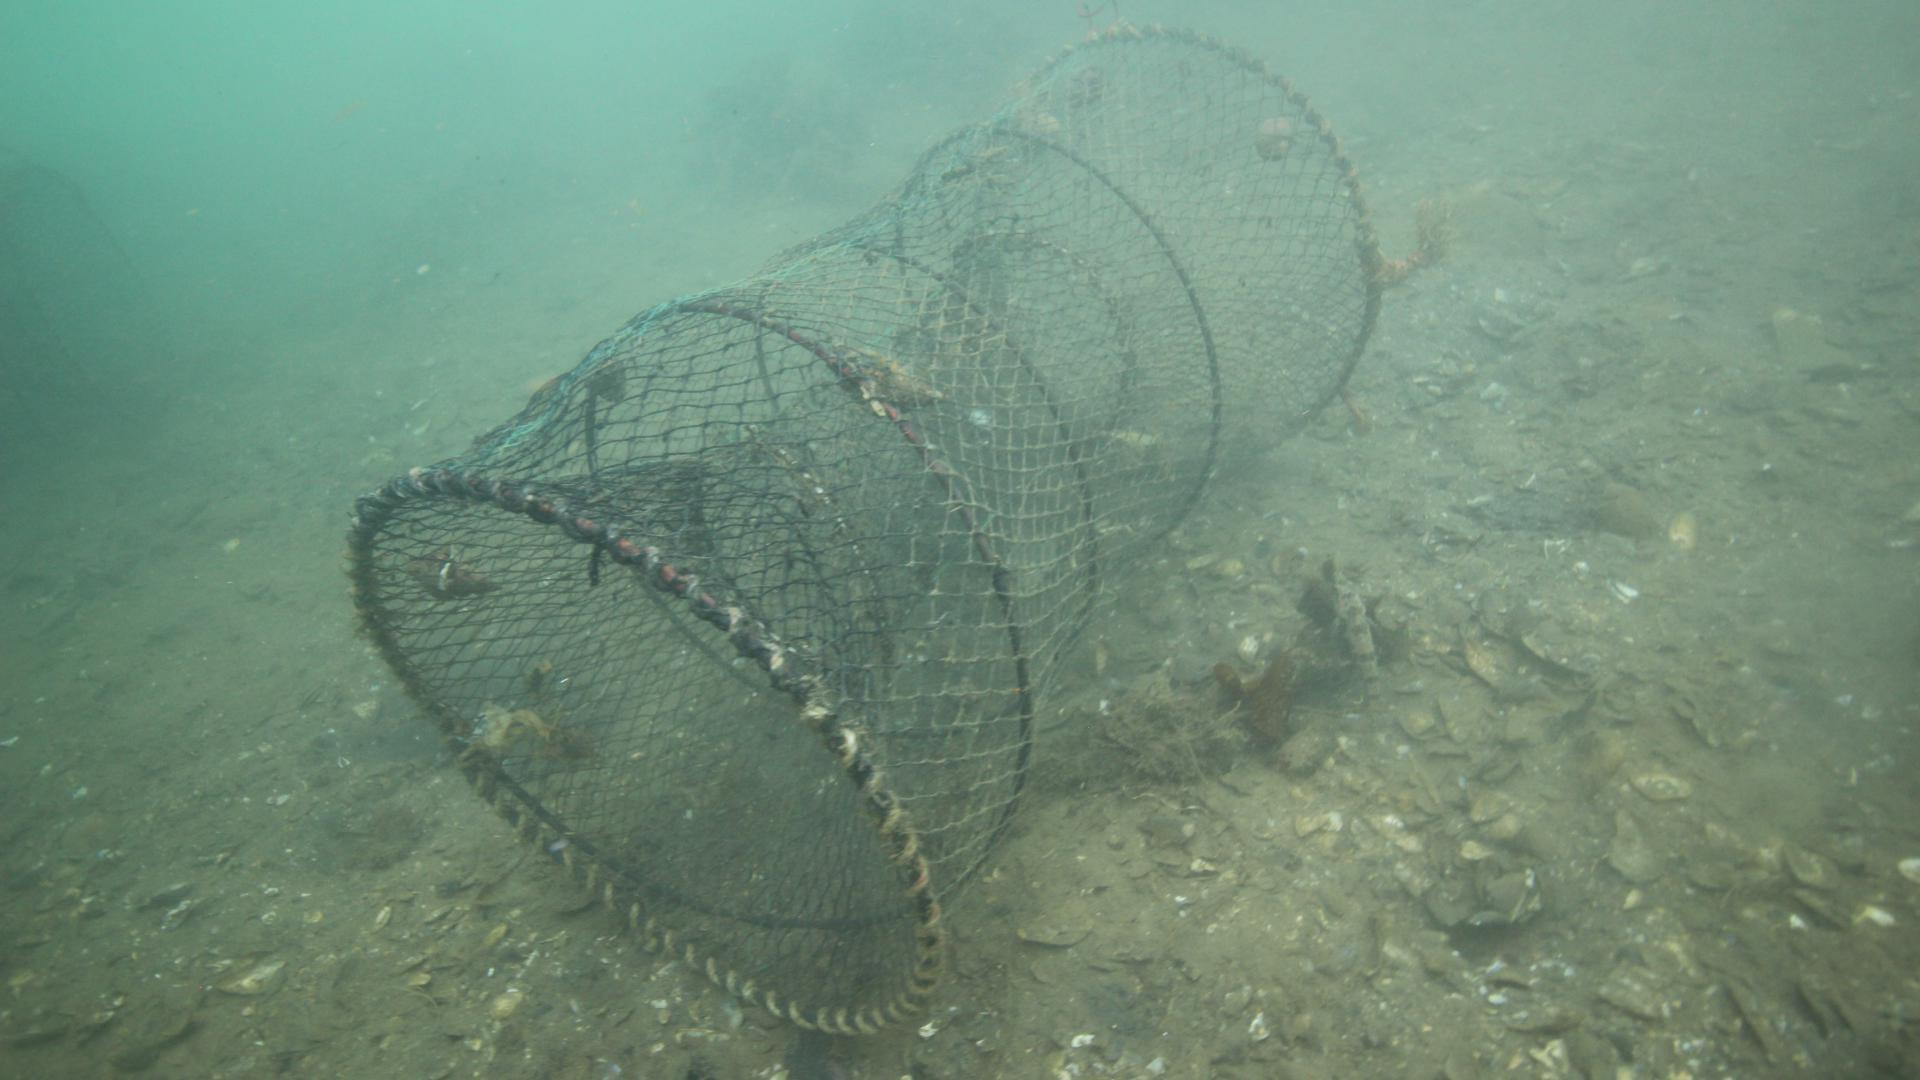spring fish trap: (345, 25, 1385, 1029)
